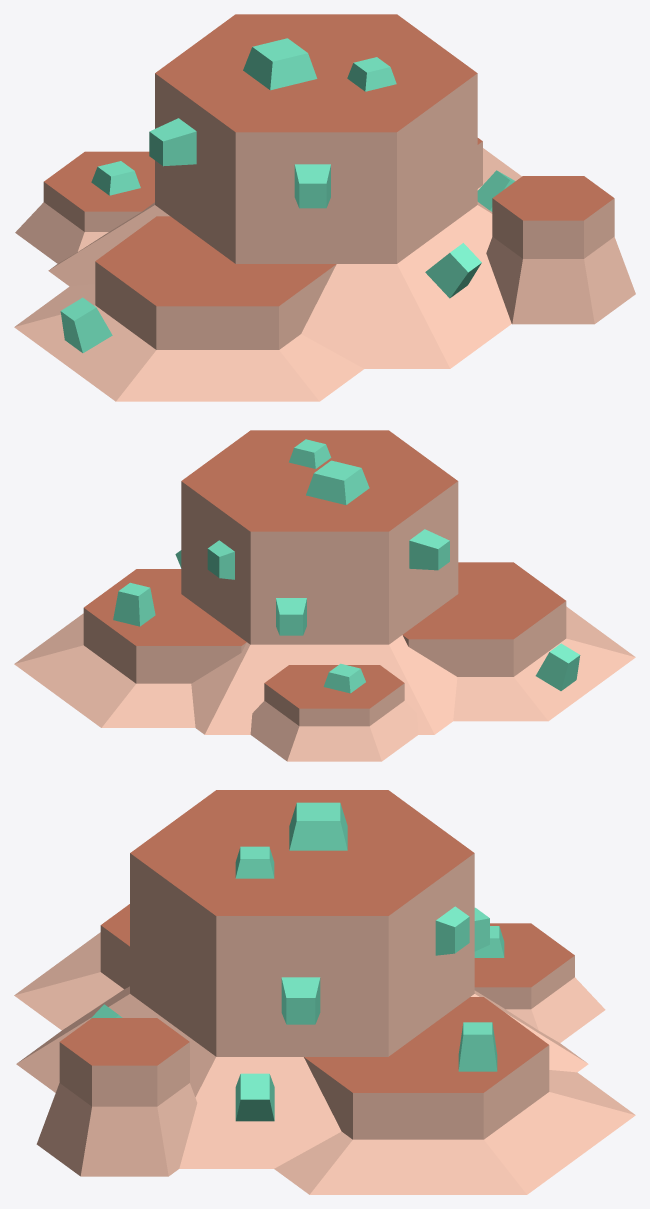
Rendered from rock_crystals.glb.
3 renders of one model, top to bottom at view 1: azimuth 30°, elevation 25°; view 2: azimuth 150°, elevation 25°; view 3: azimuth 270°, elevation 25°, orthographic. The views are drawn at different scales.
Parts seen in each view (by area): view 1: rock_crystals; view 2: rock_crystals; view 3: rock_crystals.
Part boxes in pixels (left/top/right/bottom): rock_crystals: left=14, top=14, right=635, bottom=401; rock_crystals: left=14, top=430, right=635, bottom=761; rock_crystals: left=14, top=790, right=635, bottom=1194.
Size of the model in its own units: 1.19 by 0.4738 by 1.13.
